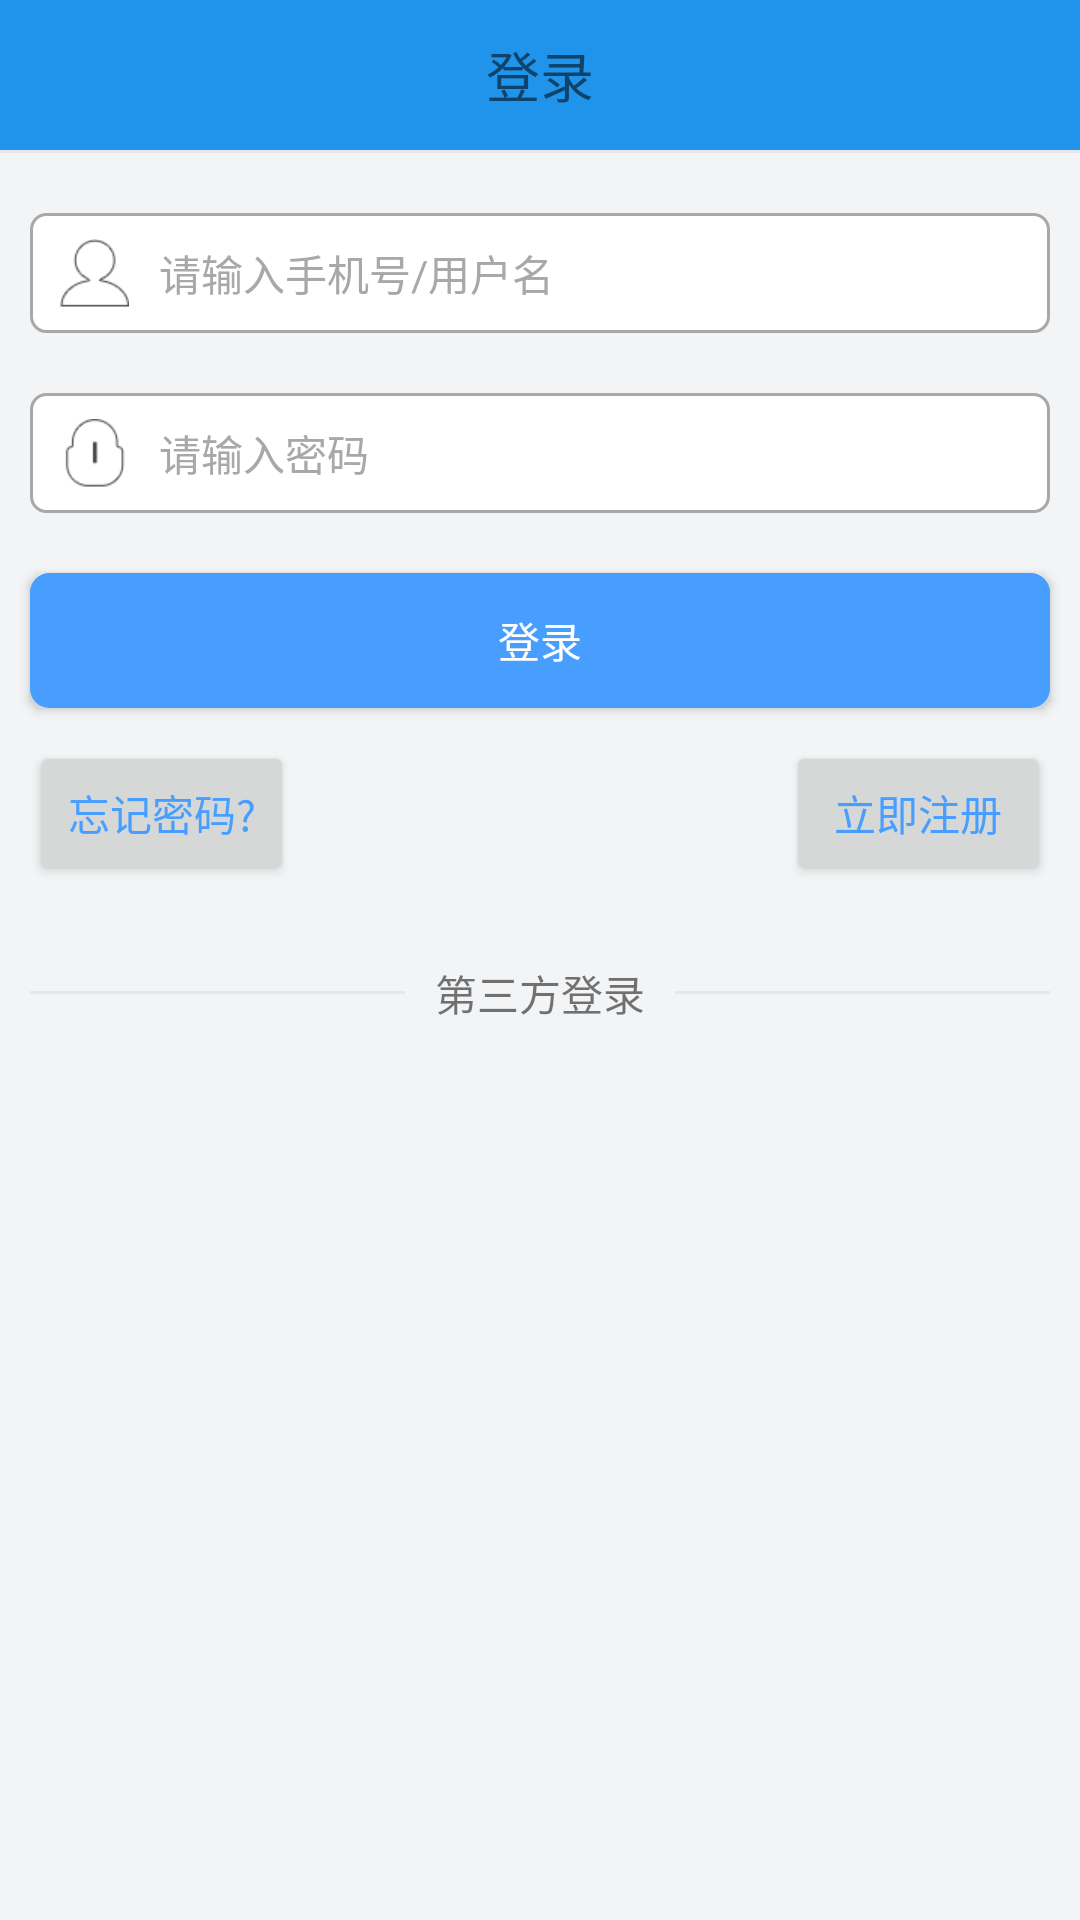

Named icons in this screenshot (1080 x 1920) and their bounding boxes, bbox=(x1, y1, x2, y2):
uname: bbox=(60, 239, 129, 307)
